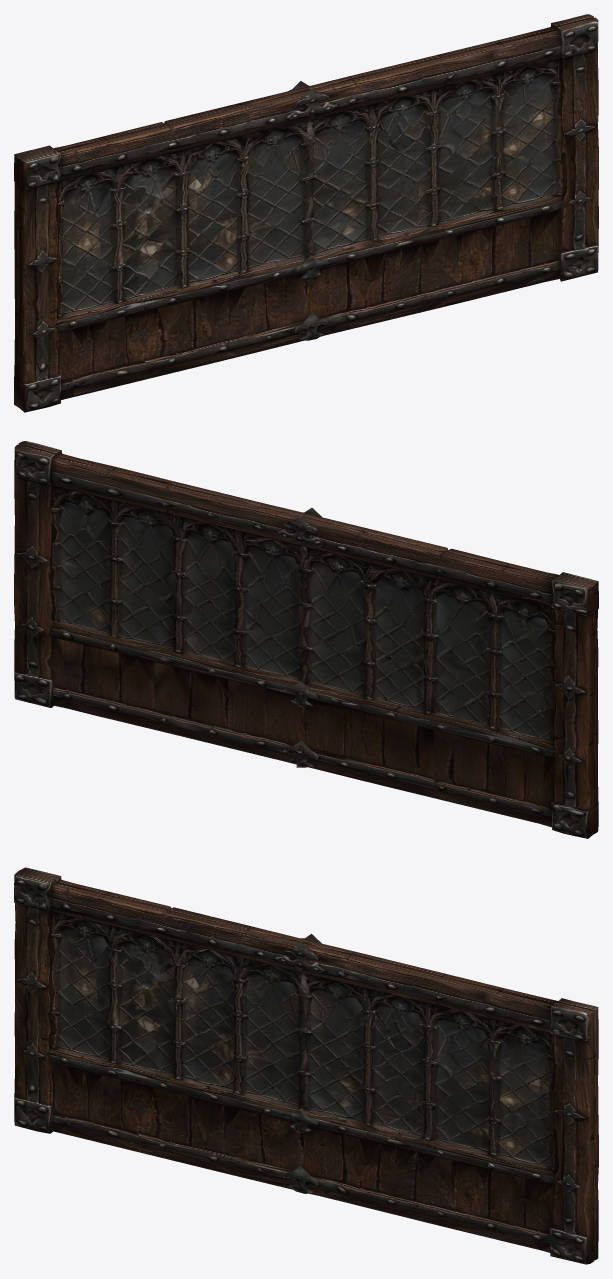
The model's file is boothwindow.glb.
The picture shows the model from 3 angles, top to bottom: view 1: azimuth 30°, elevation 25°; view 2: azimuth 150°, elevation 25°; view 3: azimuth 330°, elevation 25°; orthographic projection.
Visible parts, largest first — view 1: Glass, boothwindow; view 2: boothwindow, Glass; view 3: boothwindow, Glass.
Boxes of the visible parts, x1=… form: Glass: x1=58, y1=46, x2=561, y2=318; boothwindow: x1=14, y1=14, x2=598, y2=412; boothwindow: x1=14, y1=441, x2=598, y2=838; Glass: x1=51, y1=472, x2=554, y2=738; boothwindow: x1=14, y1=867, x2=598, y2=1264; Glass: x1=50, y1=898, x2=554, y2=1169.
Bounding box in the file's own units: 5.94 × 2.5 × 0.25.
Materials: 1 (1 with a texture image).
